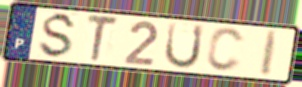2: (122, 20, 160, 68)
C: (204, 26, 247, 74)
I: (258, 29, 281, 78)
S: (36, 11, 79, 60)
T: (85, 13, 120, 64)
U: (162, 21, 206, 71)
